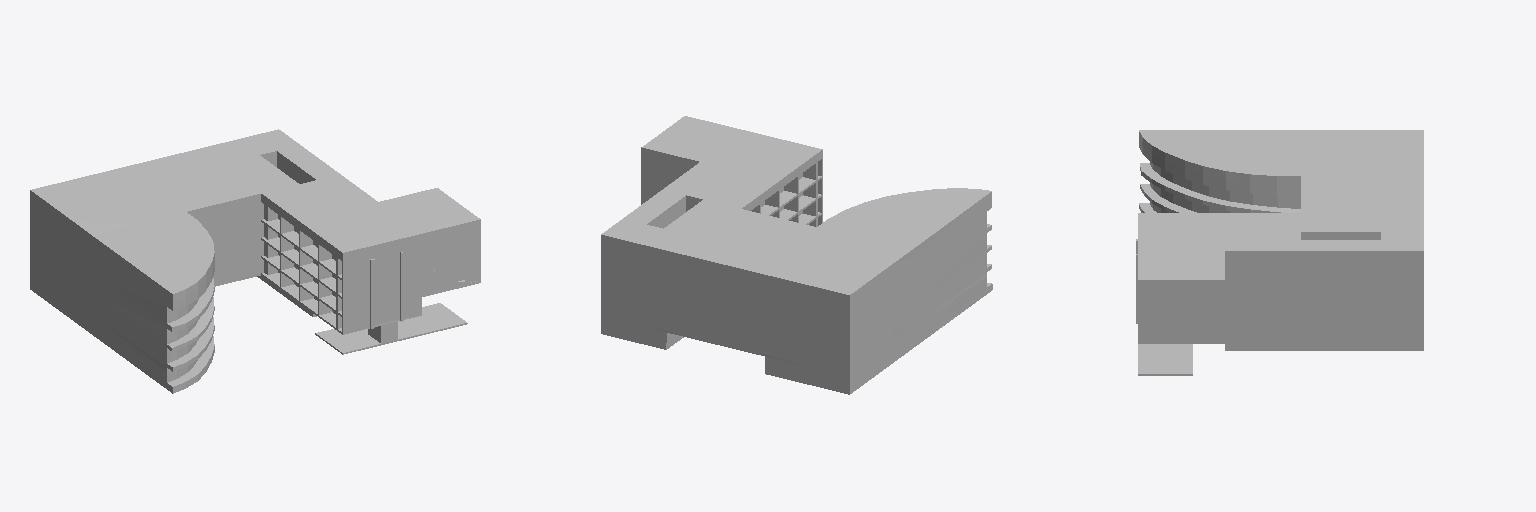
File: Web3dtester.obj
The picture shows the model from 3 angles: view 1: azimuth 30°, elevation 25°; view 2: azimuth 150°, elevation 25°; view 3: azimuth 270°, elevation 25°; orthographic projection.
Parts seen in each view (by area): view 1: Art_building:pCube12, Art_building:pCube13; view 2: Art_building:pCube12; view 3: Art_building:pCube12.
Part boxes in pixels (left/top/right/bottom): Art_building:pCube12: left=30, top=129, right=480, bottom=393; Art_building:pCube13: left=264, top=205, right=277, bottom=274; Art_building:pCube12: left=601, top=116, right=992, bottom=394; Art_building:pCube12: left=1138, top=130, right=1423, bottom=375.
Bounding box in the file's own units: 422 × 133 × 342.